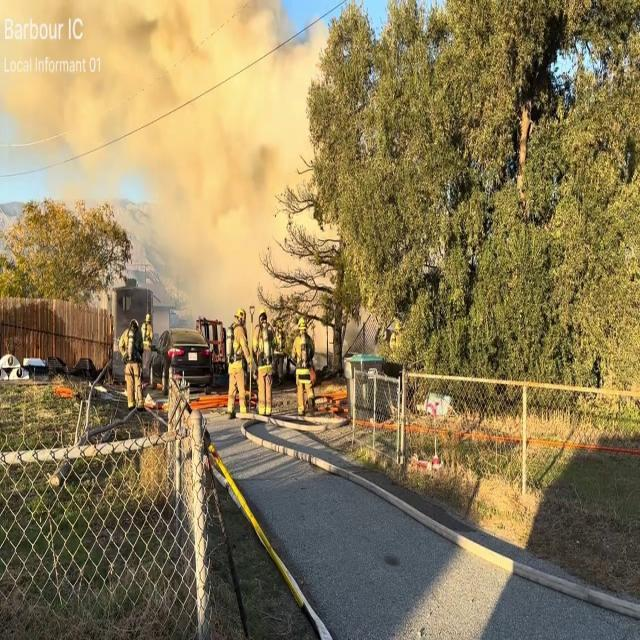Smoke: (1, 0, 319, 315)
